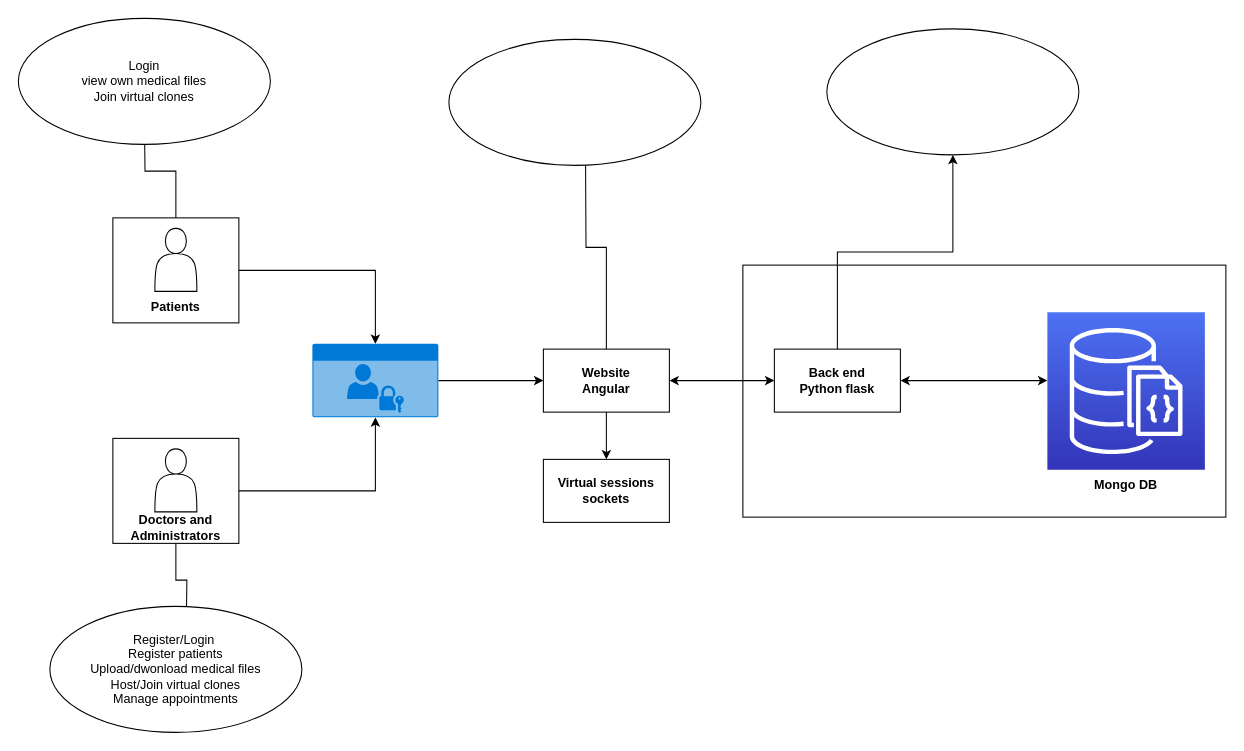
Image size: 1244x751. Some labels were removed from this diagram. The centre of each missing label's shape, as x and y in pixels:
"Appoinment User management Authentication Authorization Email sevices" belongs at point 952,91.
"Login" belongs at point 375,380.
"Make appoinmetns Join virtual sessions view medical files" belongs at point 574,101.
